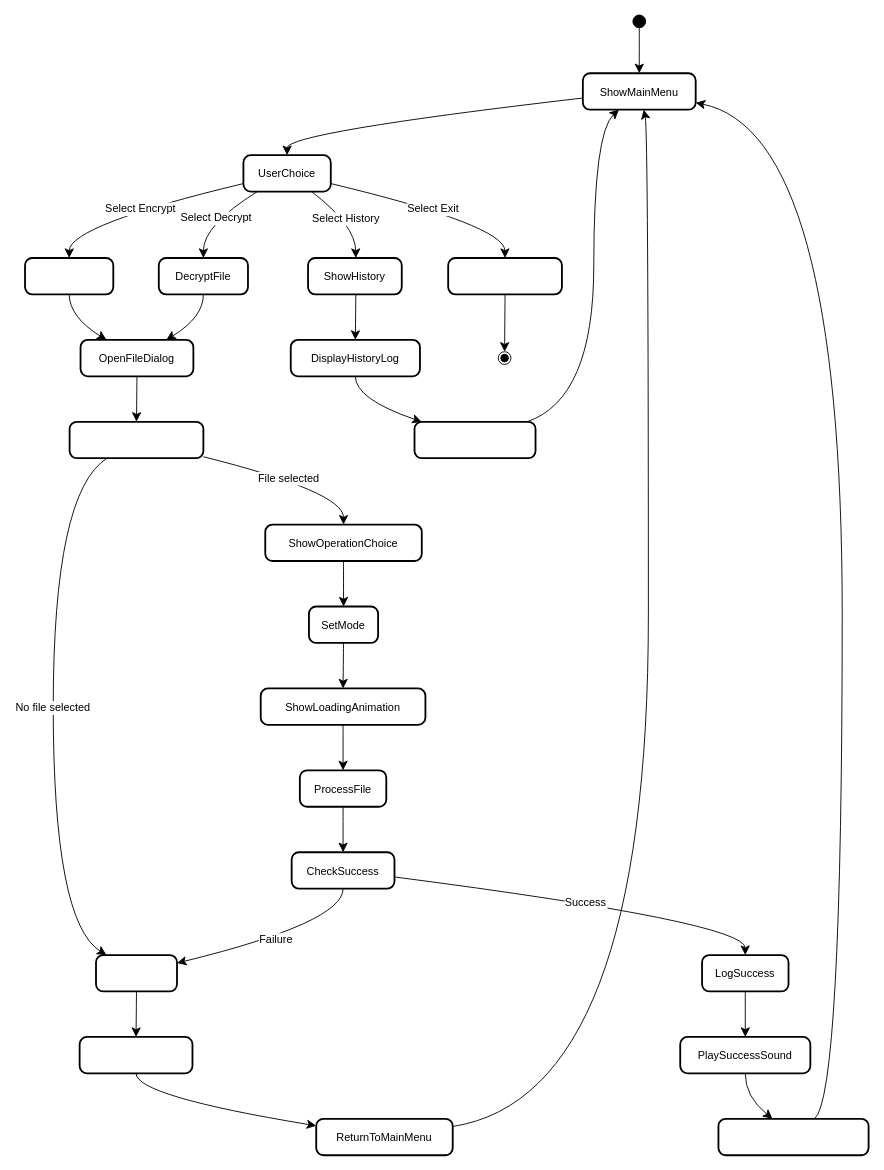
Some shapes in this 884 by 1170 pixel diagram are drawn without their labels. Each missing label, with the centre of its shape:
EncryptFile: point 69,276
ExitApplication: point 504,276
FileSelectedCheck: point 136,439
PlayErrorSound: point 135,1055
ShowError: point 136,973
ShowSuccessMessage: point 793,1136
WaitForKeyPress: point 474,439
